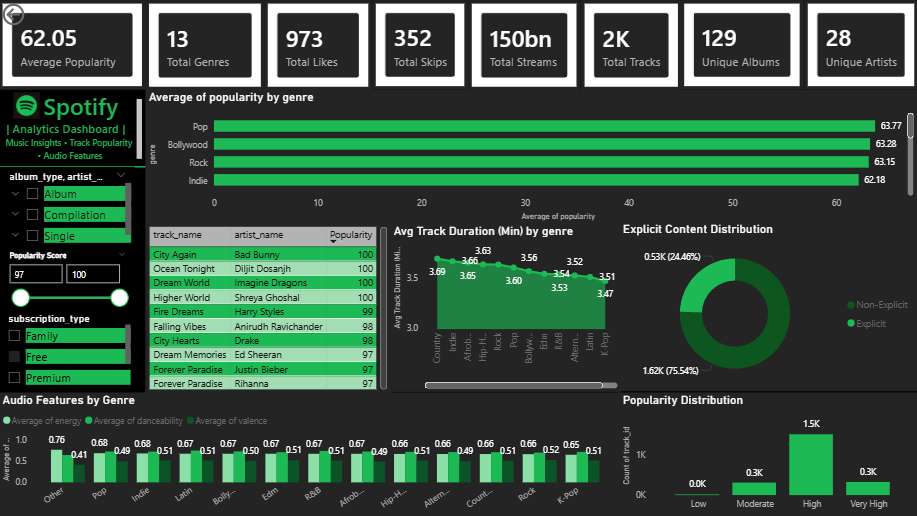

The page's visual inventory and layout, read from the dashboard file:
{"tool":"powerbi","page":{"name":"Page 1","canvas":[1280,720],"ordinal":0},"visuals":[{"type":"cardVisual","fields":{"Data":["Spotify_Data.Average Popularity"]},"box":[0,0,204,126],"z":0},{"type":"cardVisual","fields":{"Data":["Spotify_Data.Total Genres"]},"box":[204,0,166,126],"z":1},{"type":"cardVisual","fields":{"Data":["Spotify_Data.Total Likes"]},"box":[370,0,134,126],"z":2},{"type":"cardVisual","fields":{"Data":["Spotify_Data.Total Skips"]},"box":[504.2,0,135,125.1],"z":3},{"type":"cardVisual","fields":{"Data":["Spotify_Data.Total Streams"]},"box":[638,0,156,126],"z":4},{"type":"cardVisual","fields":{"Data":["Spotify_Data.Total Tracks"]},"box":[794,0,142,126],"z":5},{"type":"cardVisual","fields":{"Data":["Spotify_Data.Unique Albums"]},"box":[935.3,0,172.5,125.5],"z":6},{"type":"cardVisual","fields":{"Data":["Spotify_Data.Unique Artists"]},"box":[1108,0,172,126],"z":7},{"type":"clusteredBarChart","fields":{"Category":["Spotify_Data.genre"],"Y":["Avg(Spotify_Data.popularity)"]},"box":[0,125.6,1280,185.6],"z":8},{"type":"clusteredColumnChart","title":"Popularity Distribution","fields":{"Category":["Spotify_Data.Popularity Category"],"Y":["Count(Spotify_Data.track_id)"]},"box":[864,546,416,174],"z":9},{"type":"donutChart","title":"Explicit Content Distribution","fields":{"Category":["Spotify_Data.Explicit Label"],"Y":["Count(Spotify_Data.track_id)"]},"box":[864,310,416,236],"z":10},{"type":"clusteredColumnChart","title":"Audio Features by Genre","fields":{"Category":["Spotify_Data.genre"],"Y":["Avg(Spotify_Data.energy)","Avg(Spotify_Data.danceability)","Avg(Spotify_Data.valence)"]},"box":[0,546,866,174],"z":11},{"type":"tableEx","fields":{"Values":["Top10Tracks.track_name","Top10Tracks.artist_name","Sum(Top10Tracks.Popularity Score)"]},"box":[0,310,341.7,236.7],"z":13},{"type":"actionButton","box":[0,0,100,40],"z":14},{"type":"lineChart","fields":{"Category":["Spotify_Data.genre"],"Y":["Spotify_Data.Avg Track Duration (Min)"]},"box":[342,312,524,234],"z":15}]}

Visuals, with their boxes in screenshot pixels (x1, y1, x2, y2), scaled from the page's 1280x720 canvas onto the 917x516 screenshot:
cardVisual - Spotify_Data.Average Popularity: (x1=0, y1=0, x2=146, y2=90)
cardVisual - Spotify_Data.Total Genres: (x1=146, y1=0, x2=265, y2=90)
cardVisual - Spotify_Data.Total Likes: (x1=265, y1=0, x2=361, y2=90)
cardVisual - Spotify_Data.Total Skips: (x1=361, y1=0, x2=458, y2=90)
cardVisual - Spotify_Data.Total Streams: (x1=457, y1=0, x2=569, y2=90)
cardVisual - Spotify_Data.Total Tracks: (x1=569, y1=0, x2=671, y2=90)
cardVisual - Spotify_Data.Unique Albums: (x1=670, y1=0, x2=794, y2=90)
cardVisual - Spotify_Data.Unique Artists: (x1=794, y1=0, x2=916, y2=90)
clusteredBarChart - Spotify_Data.genre x Avg(Spotify_Data.popularity): (x1=0, y1=90, x2=916, y2=223)
"Popularity Distribution" clusteredColumnChart: (x1=619, y1=391, x2=916, y2=515)
"Explicit Content Distribution" donutChart: (x1=619, y1=222, x2=916, y2=391)
"Audio Features by Genre" clusteredColumnChart: (x1=0, y1=391, x2=620, y2=515)
tableEx - Top10Tracks.track_name x Top10Tracks.artist_name: (x1=0, y1=222, x2=245, y2=392)
actionButton: (x1=0, y1=0, x2=72, y2=29)
lineChart - Spotify_Data.genre x Spotify_Data.Avg Track Duration (Min): (x1=245, y1=224, x2=620, y2=391)
